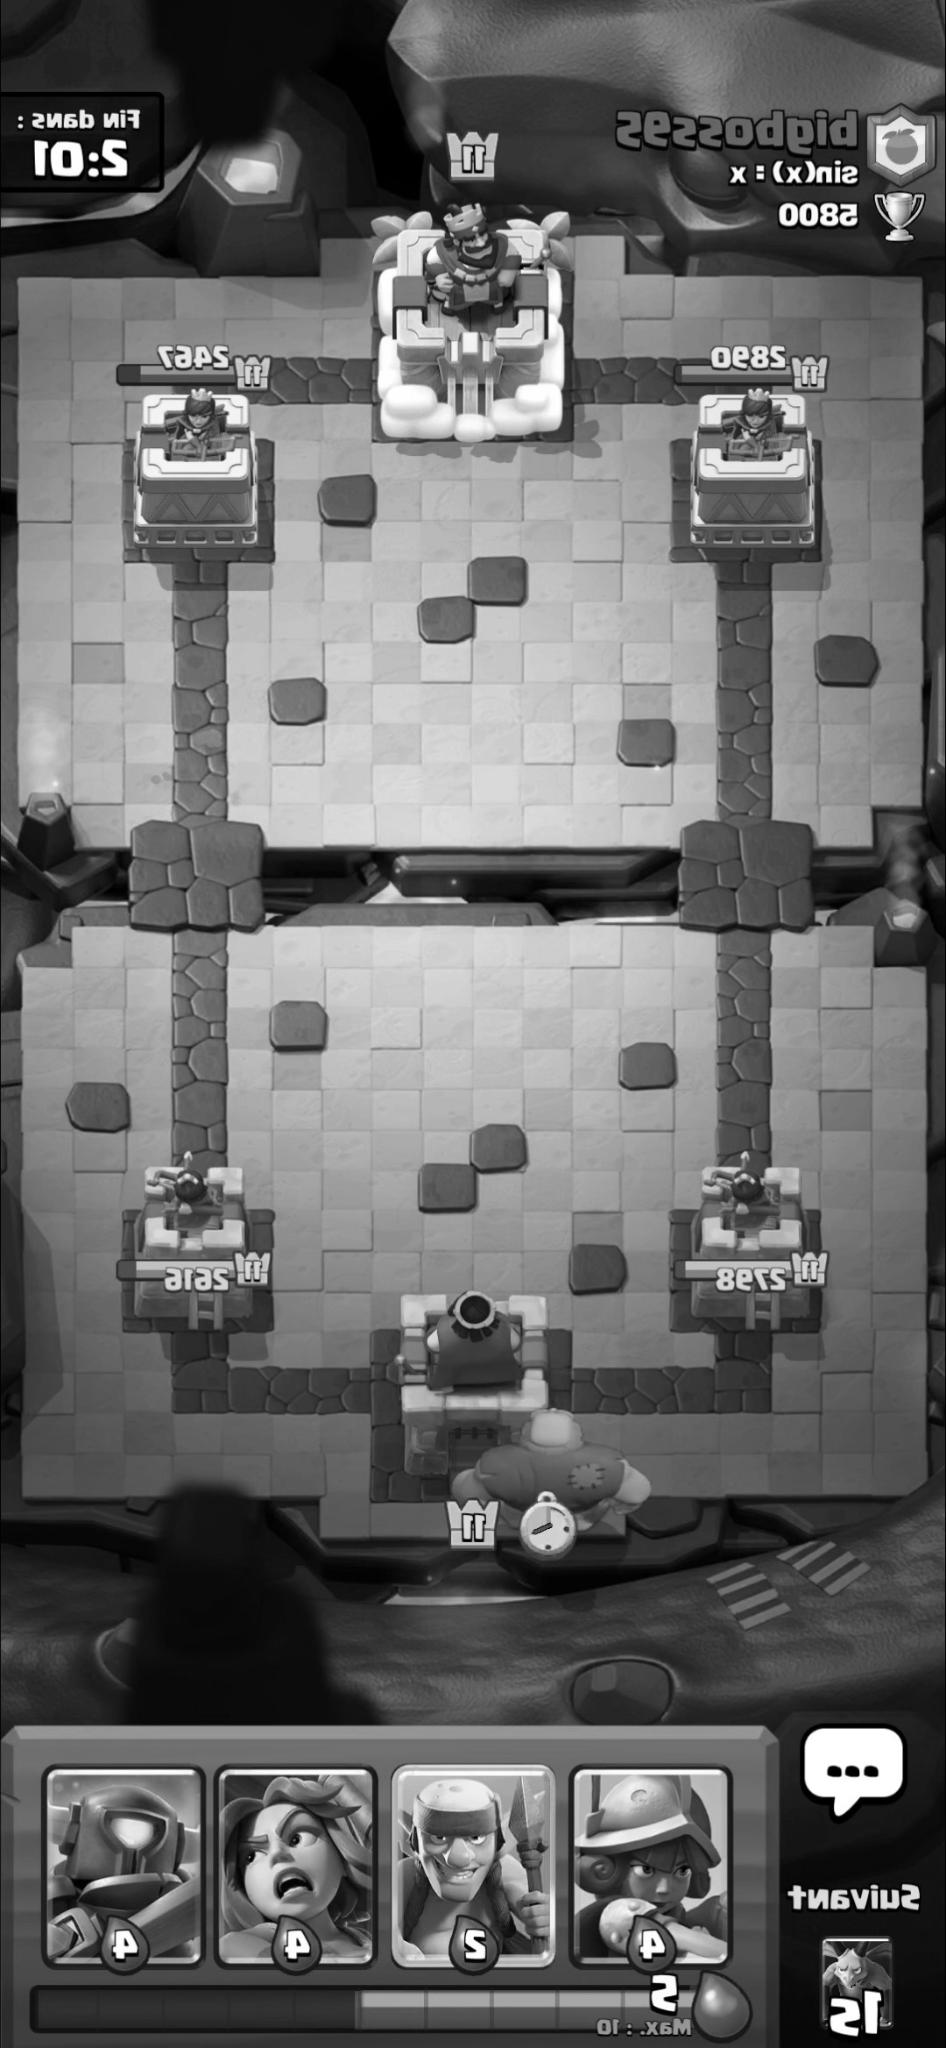geant: (440, 1405, 645, 1543)
